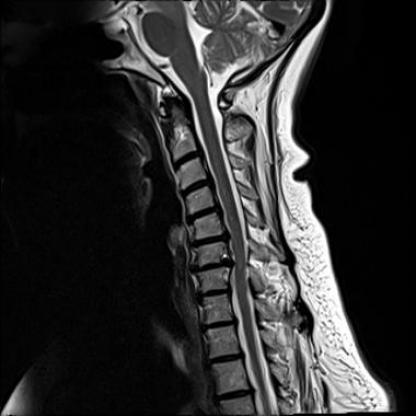Disc Bulgerotation: (189, 258, 236, 274), (188, 232, 232, 247)
Osteophytesrotation: (189, 257, 236, 274), (189, 232, 233, 248)
